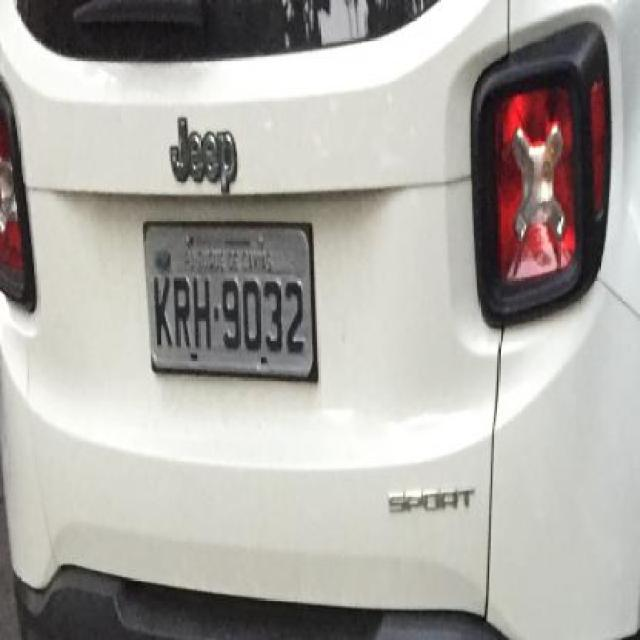old_plate: (136, 218, 326, 385)
